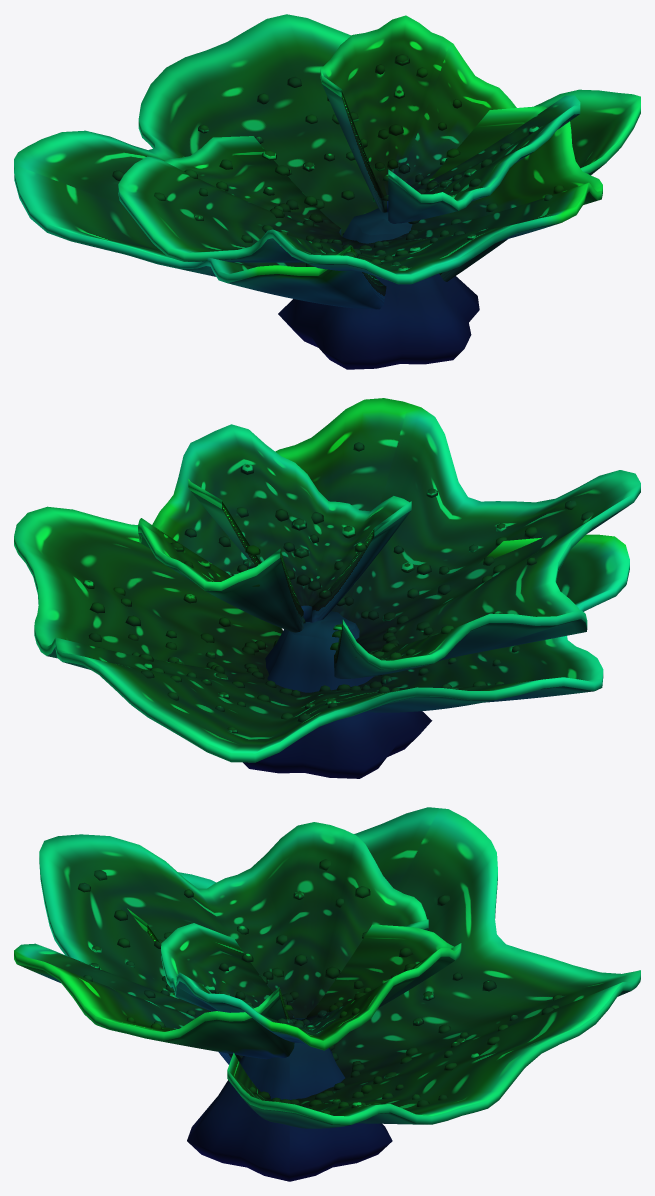
Rendered from reef-montipora-undata-cap.glb.
The picture shows the model from 3 angles, top to bottom: view 1: azimuth 30°, elevation 25°; view 2: azimuth 150°, elevation 25°; view 3: azimuth 270°, elevation 25°; orthographic projection. The views are drawn at different scales.
Parts seen in each view (by area): view 1: Reef_Montipora_Undata_Cap; view 2: Reef_Montipora_Undata_Cap; view 3: Reef_Montipora_Undata_Cap.
Boxes of the visible parts, left/top/right/bottom form: Reef_Montipora_Undata_Cap: left=14, top=14, right=640, bottom=369; Reef_Montipora_Undata_Cap: left=14, top=398, right=640, bottom=778; Reef_Montipora_Undata_Cap: left=14, top=807, right=640, bottom=1181.
Bounding box in the file's own units: 0.1948 × 0.0773 × 0.1815.
1 material, 1 textured.
